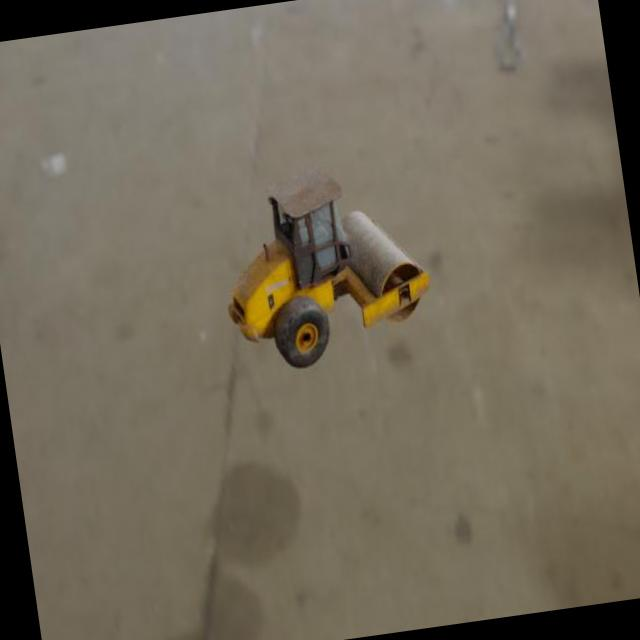Roller: (208, 151, 440, 378)
